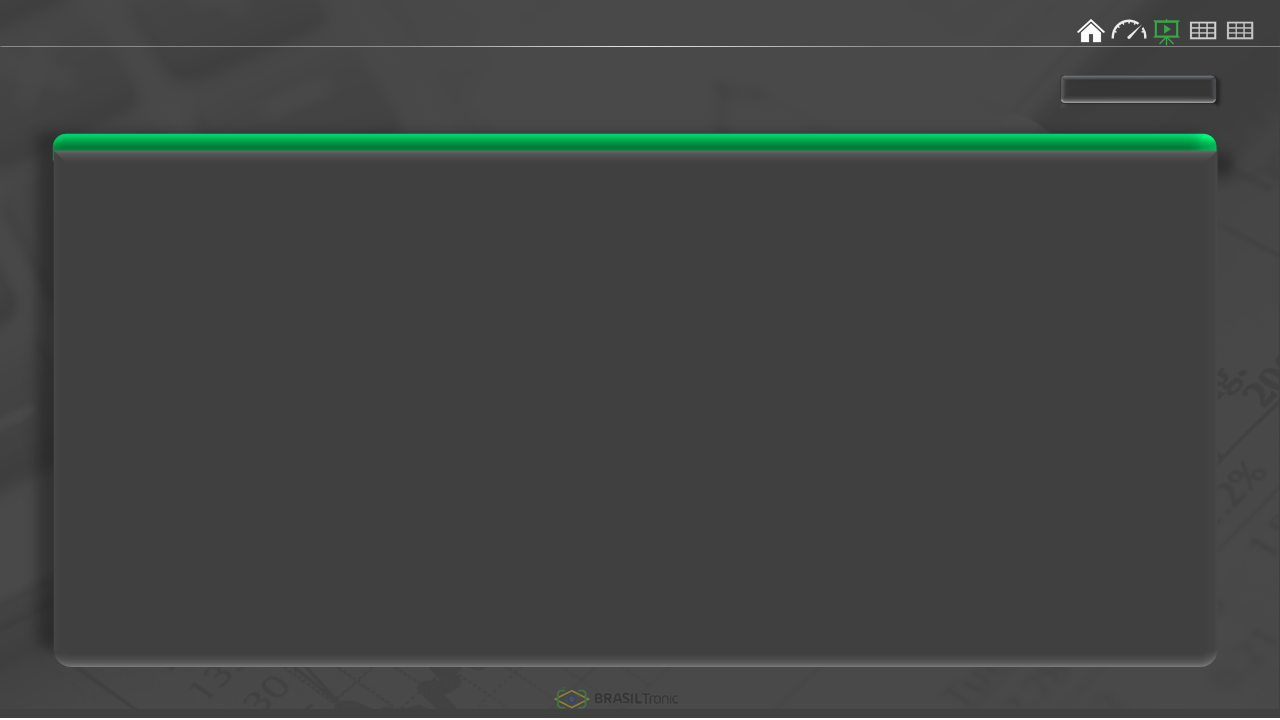

The dashboard page shown, as its layout file describes it:
{"tool":"powerbi","page":{"name":"Home","canvas":[1280,720],"ordinal":0},"visuals":[{"type":"actionButton","title":"Botão Home","box":[32,128,48,32],"z":0},{"type":"actionButton","title":"Botão Home","box":[30,170,48,32],"z":1000},{"type":"actionButton","title":"Botão Home","box":[32,220,48,32],"z":2000},{"type":"actionButton","title":"Botão Home","box":[32,266,48,32],"z":3000}]}

Visuals, with their boxes on the page's 1280x720 design canvas (x1, y1, x2, y2). These are canvas units, not pixel positions in the 1280x720 screenshot, which may show the page scaled, cropped or inside an application window:
"Botão Home" actionButton: region(32, 128, 80, 160)
"Botão Home" actionButton: region(30, 170, 78, 202)
"Botão Home" actionButton: region(32, 220, 80, 252)
"Botão Home" actionButton: region(32, 266, 80, 298)
